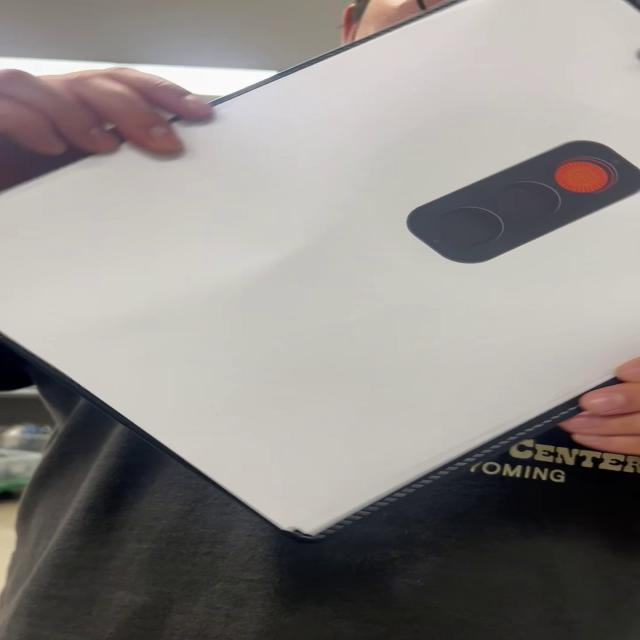red: (399, 139, 640, 267)
